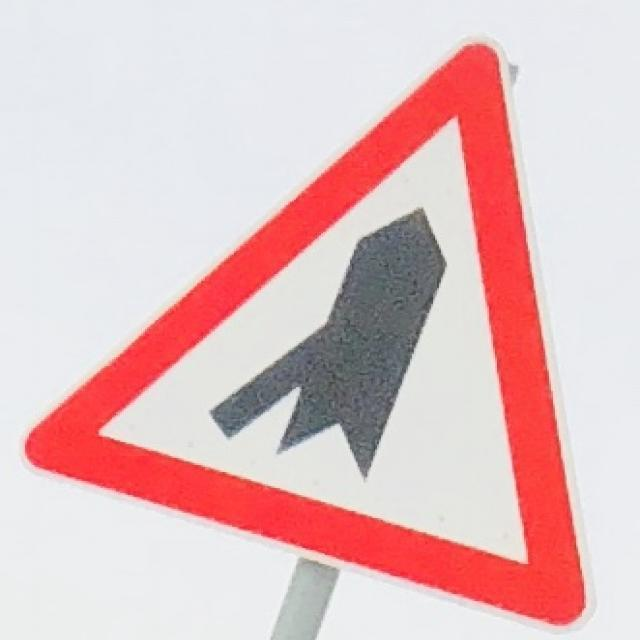cross road: (25, 42, 593, 624)
